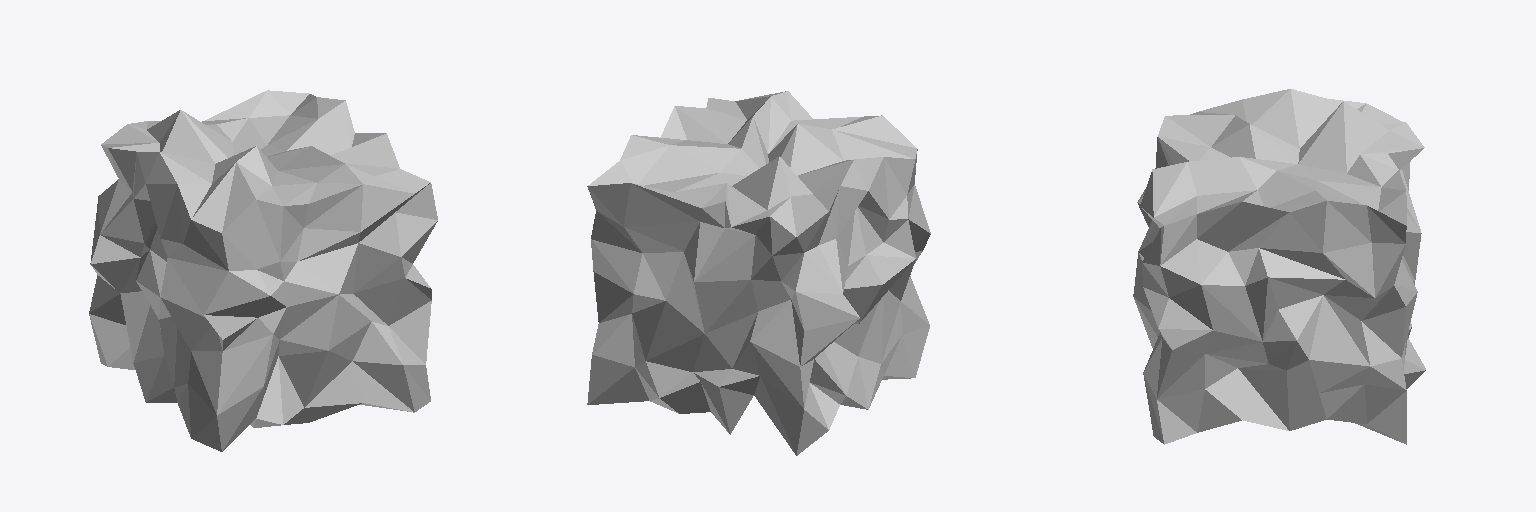
The model's file is RockBlock1.obj.
The picture shows the model from 3 angles: view 1: azimuth 30°, elevation 25°; view 2: azimuth 150°, elevation 25°; view 3: azimuth 270°, elevation 25°; orthographic projection.
Visible parts, largest first — view 1: Cube.004; view 2: Cube.004; view 3: Cube.004.
Part boxes in pixels (x1,y1,x2,y2): Cube.004: (89,90,437,451); Cube.004: (587,91,930,455); Cube.004: (1133,89,1425,444).
Bounding box in the file's own units: 2.47 × 2.45 × 2.43.